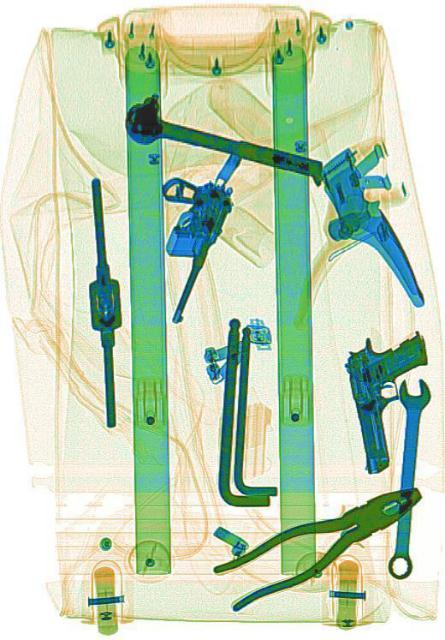Gun: (122, 148, 235, 328), (344, 318, 443, 474)
Pliers: (210, 462, 427, 620)
Wrench: (382, 374, 430, 582)
